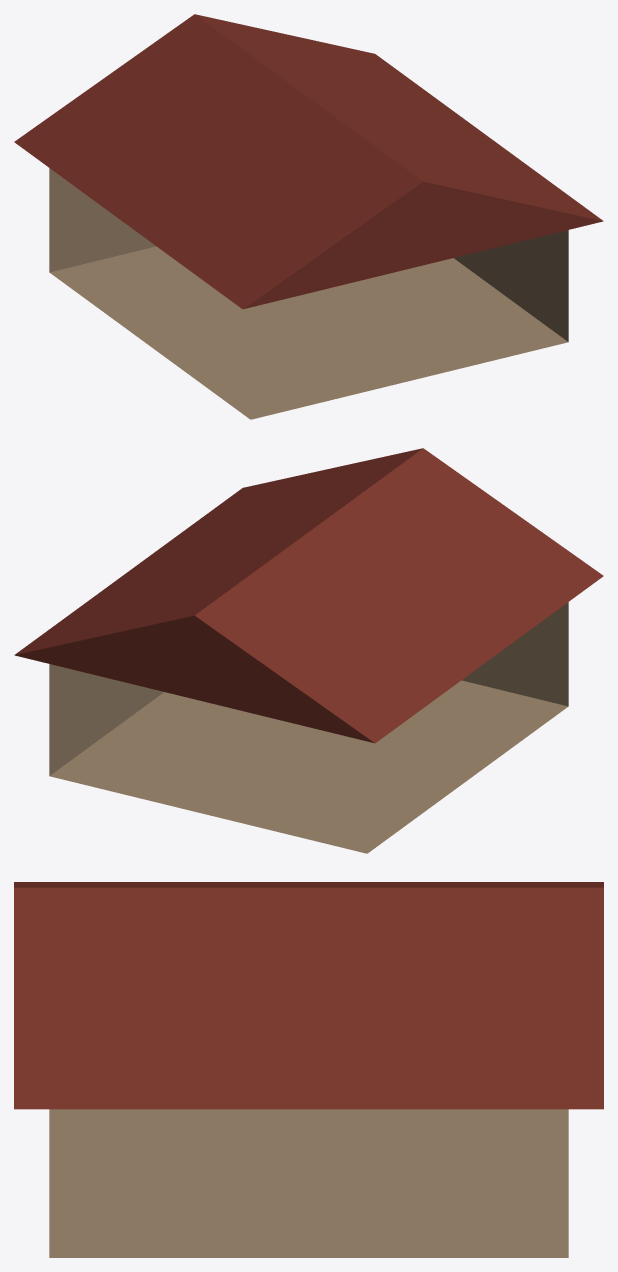
File: house.glb
The picture shows the model from 3 angles, top to bottom: view 1: azimuth 30°, elevation 25°; view 2: azimuth 150°, elevation 25°; view 3: azimuth 270°, elevation 25°; orthographic projection. The views are drawn at different scales.
Visible parts, largest first — view 1: house; view 2: house; view 3: house.
Boxes of the visible parts, x1,y1,x2,y2 form: house: (14,14,603,419); house: (14,448,603,853); house: (14,882,603,1257).
Size of the model in its own units: 1.94 by 1.07 by 2.12.
